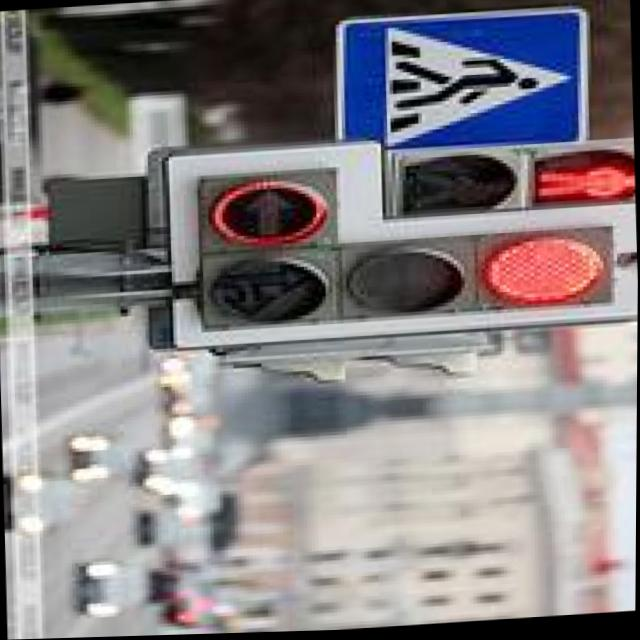red_light: (464, 200, 639, 363)
